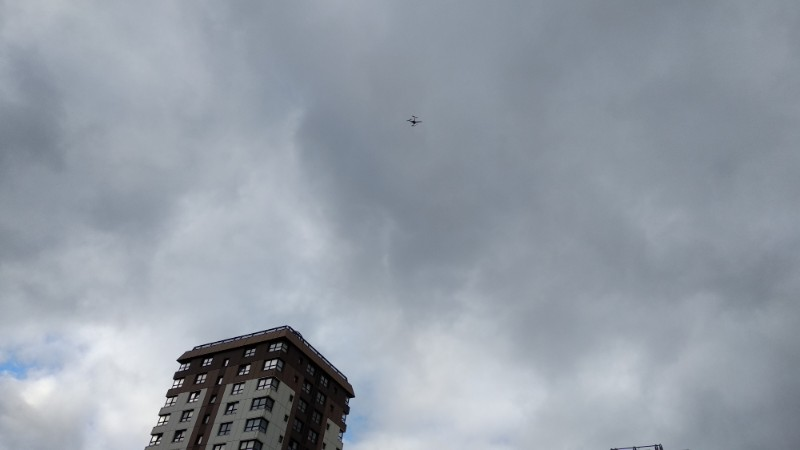drone: (407, 115, 421, 127)
